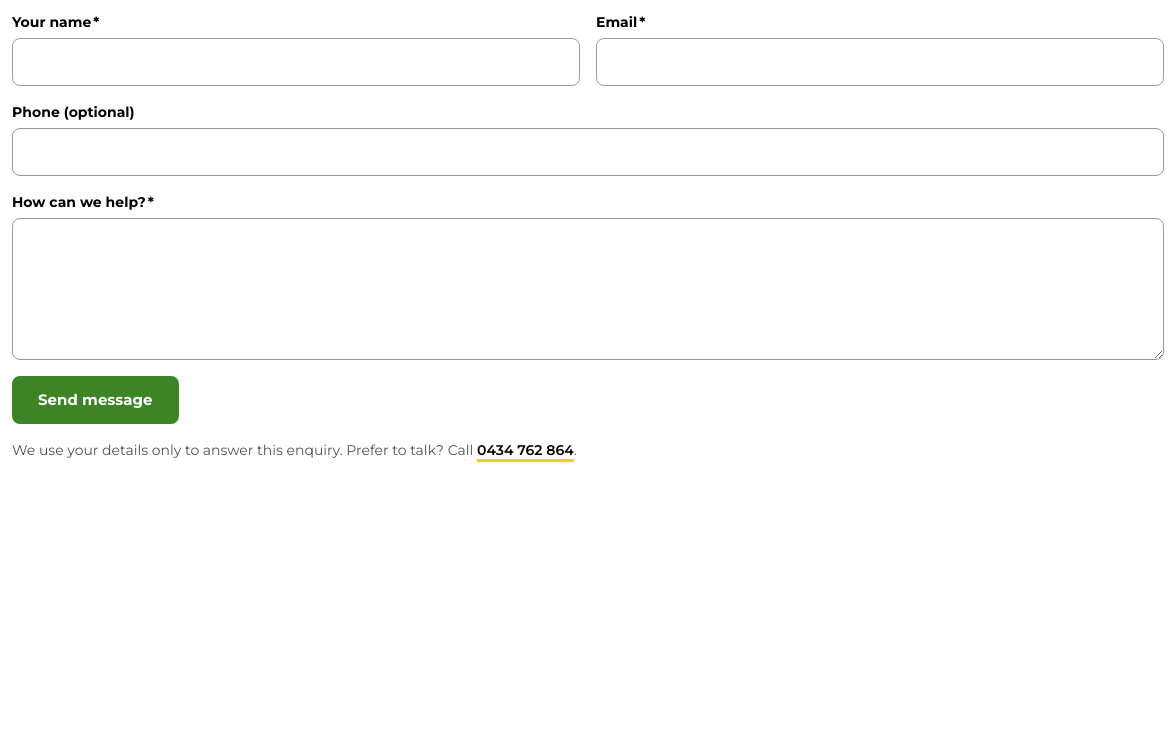
it: EnquiryForm › explains a 429 with the throttle wording and disables the button until the wait is over
This screenshot has width=1176, height=732.
Type "Jane" into the field labelled "Your name*" at (296, 62), box 12,38 -> 580,86
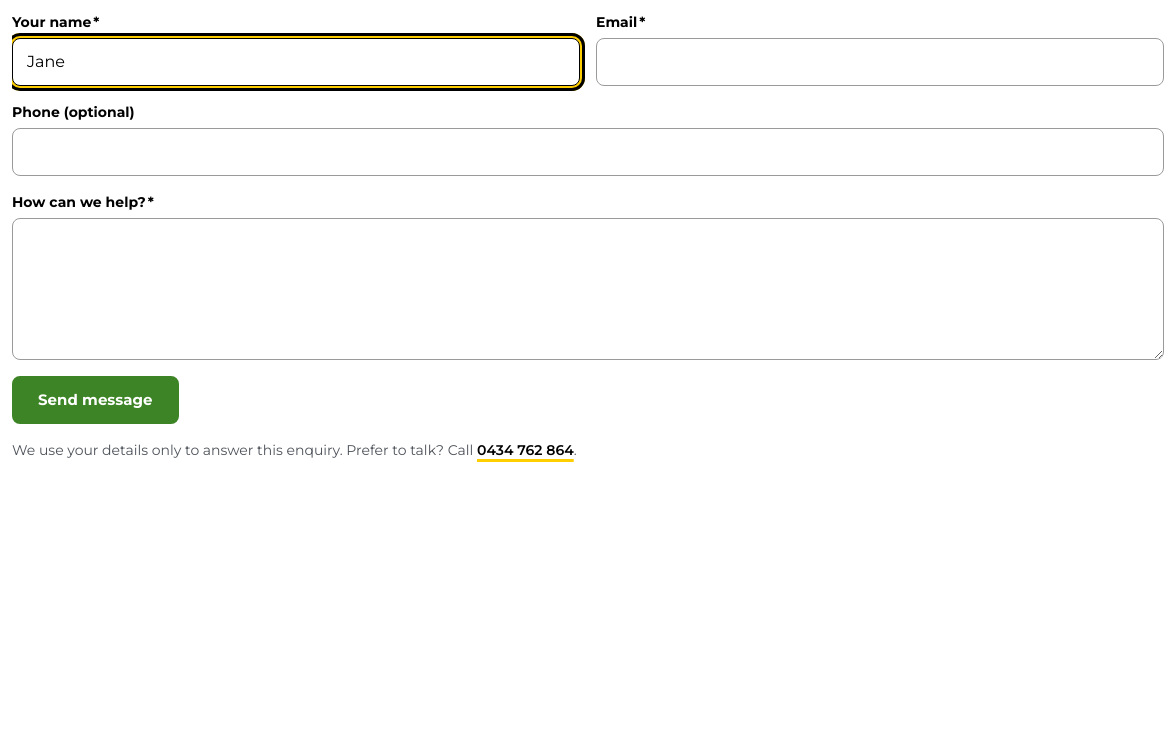
Type "jane@example.com" into the field labelled "Email*" at (880, 62), box 596,38 -> 1164,86
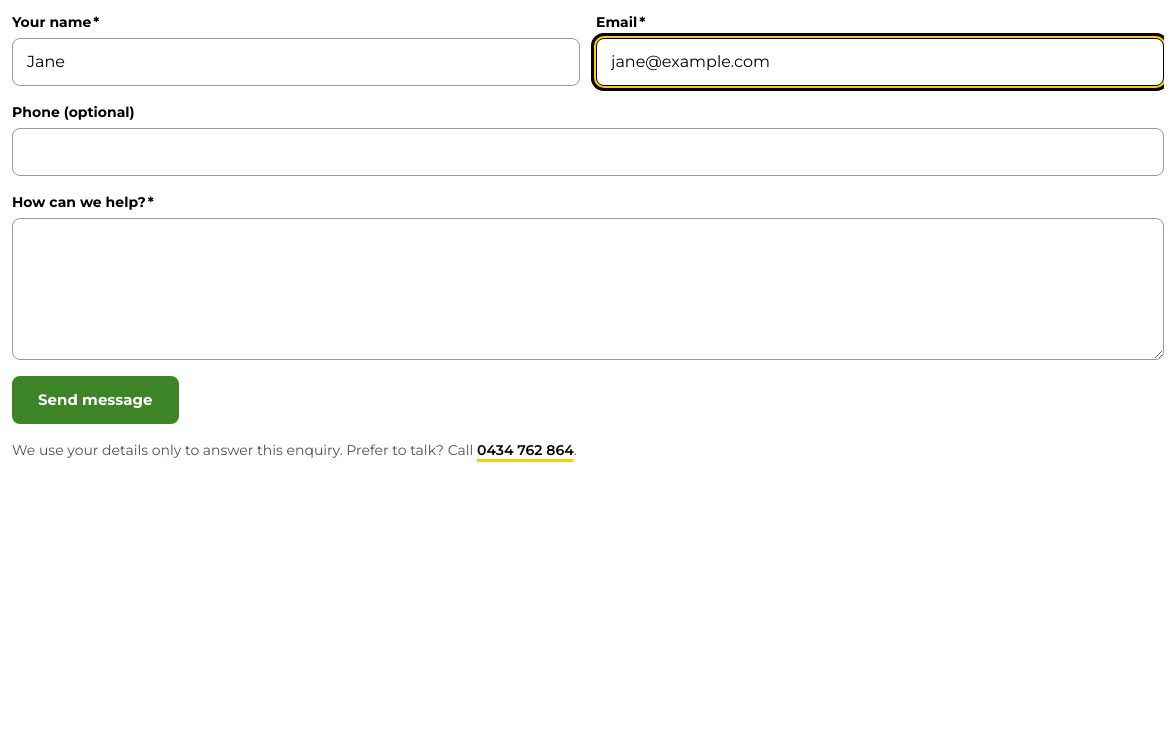
Type "A question about fitting" into the text box labelled "How can we help?*" at (588, 289), box 12,218 -> 1164,360
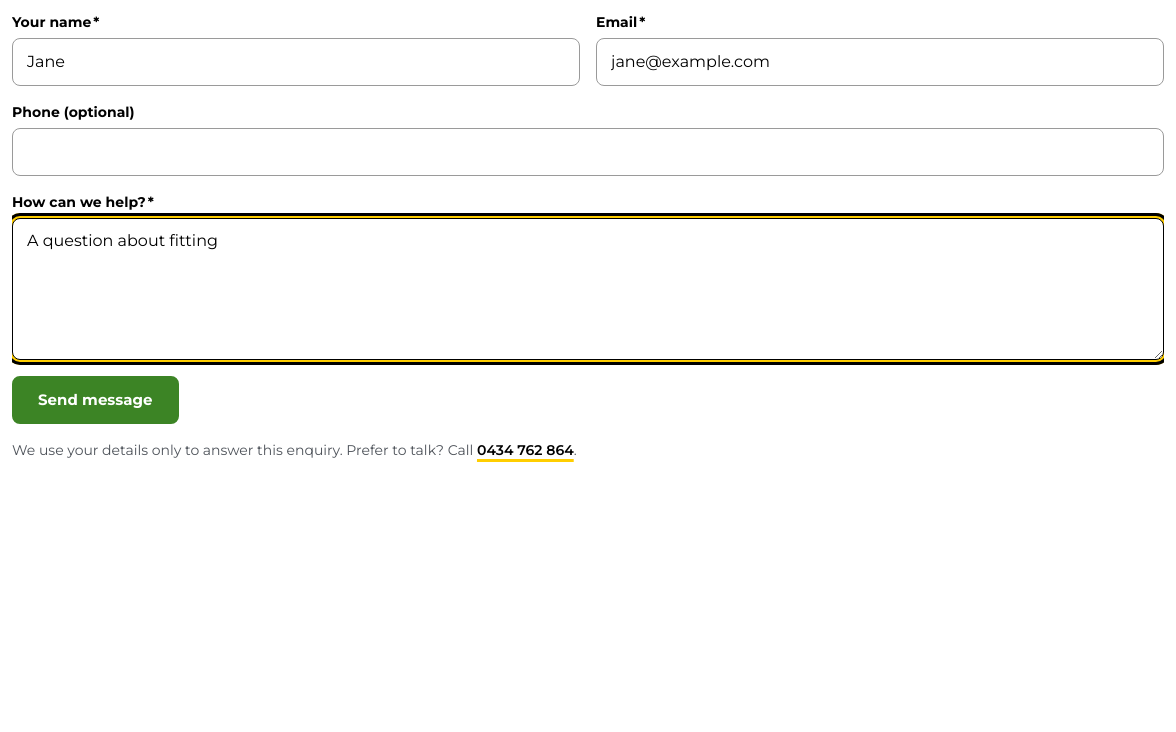
Click the button "Send message" at (95, 400), box 12,376 -> 179,424
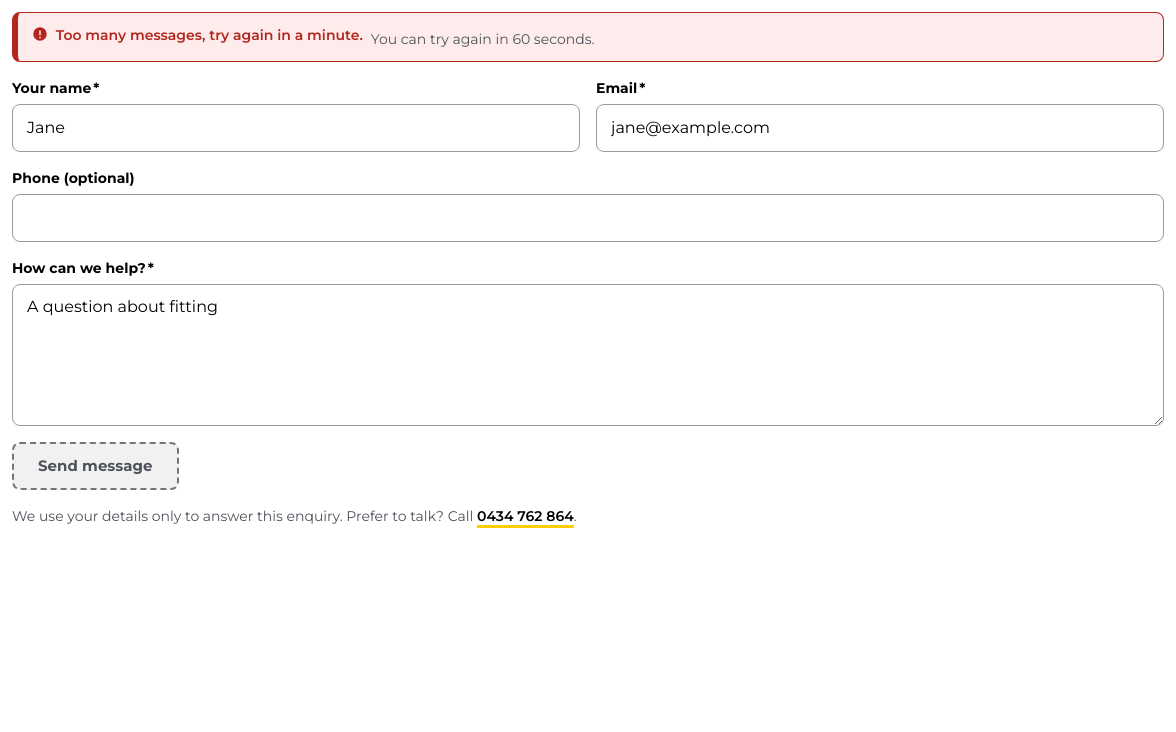
Result: the message with test id "enquiry-alert" shows "Too many messages, try again in a minute." at 56,26 -> 363,44
Result: the button "Send message" is disabled at 12,442 -> 179,490
